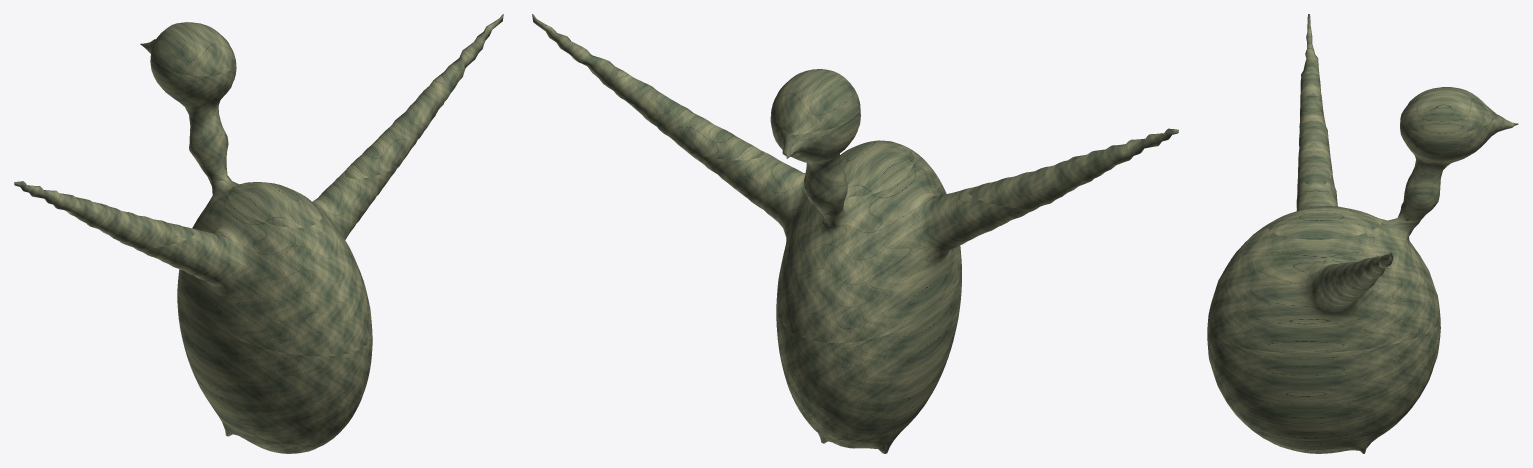
Rendered from Sculpt_DBA_Phoenix.fbx.
3 renders of one model, left to right at view 1: azimuth 30°, elevation 25°; view 2: azimuth 150°, elevation 25°; view 3: azimuth 270°, elevation 25°, orthographic. The views are drawn at different scales.
Visible parts, largest first — view 1: Sculpt_DBA_Phoenix; view 2: Sculpt_DBA_Phoenix; view 3: Sculpt_DBA_Phoenix.
Part boxes in pixels (bbox=[...]): Sculpt_DBA_Phoenix: bbox=[14, 14, 503, 453]; Sculpt_DBA_Phoenix: bbox=[532, 14, 1178, 453]; Sculpt_DBA_Phoenix: bbox=[1207, 14, 1518, 453].
Size of the model in its own units: 1065 by 574 by 716.
1 material, 1 textured.
